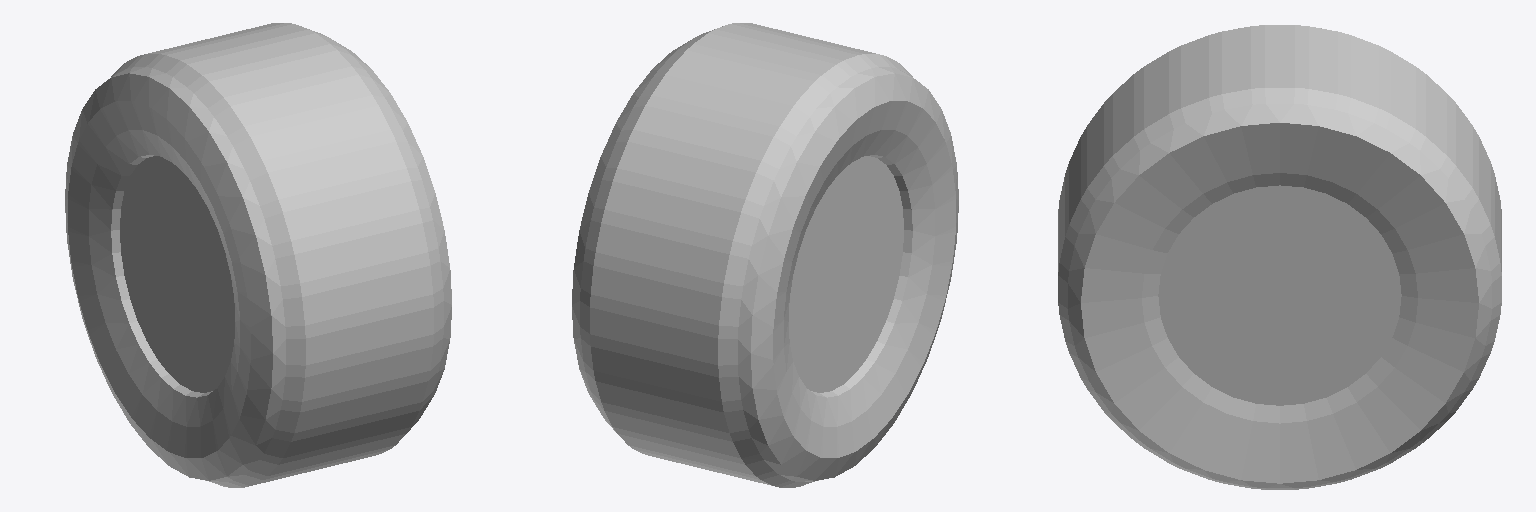
File: RuedaFI.obj
The picture shows the model from 3 angles: view 1: azimuth 30°, elevation 25°; view 2: azimuth 150°, elevation 25°; view 3: azimuth 270°, elevation 25°; orthographic projection.
Parts seen in each view (by area): view 1: Roda.001_Plastico_Preto, Roda.001_Material.006; view 2: Roda.001_Plastico_Preto, Roda.001_Material.006; view 3: Roda.001_Plastico_Preto.
Part boxes in pixels (left/top/right/bottom): Roda.001_Plastico_Preto: left=65, top=23, right=451, bottom=487; Roda.001_Material.006: left=120, top=156, right=234, bottom=392; Roda.001_Plastico_Preto: left=572, top=23, right=958, bottom=487; Roda.001_Material.006: left=789, top=156, right=903, bottom=392; Roda.001_Plastico_Preto: left=1058, top=25, right=1501, bottom=489.
Size of the model in its own units: 0.0523 by 0.1039 by 0.1039.